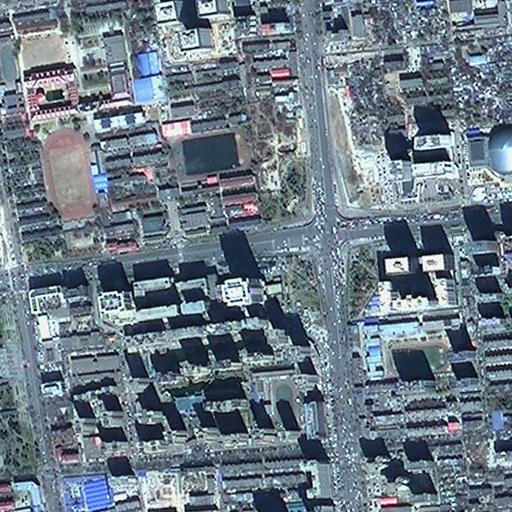school: (11, 1, 135, 224), (167, 125, 260, 235), (364, 318, 455, 381), (250, 366, 301, 428), (1, 44, 27, 115)
